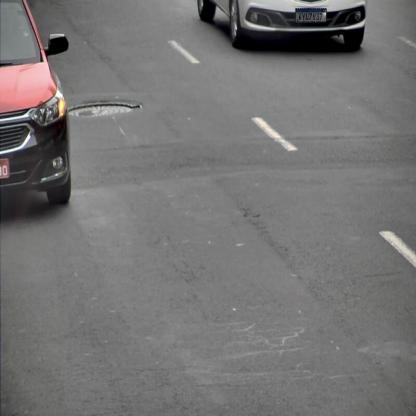PlacaM: (296, 8, 326, 22)
